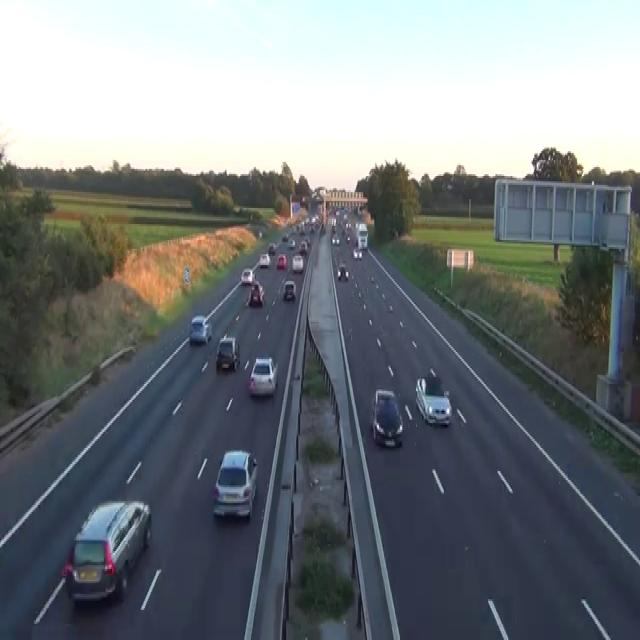Car: (61, 500, 151, 604), (212, 448, 258, 519), (415, 368, 452, 427), (370, 388, 403, 448), (248, 356, 278, 396), (215, 334, 240, 372), (189, 315, 212, 345), (247, 281, 265, 307), (283, 279, 296, 301), (240, 266, 255, 284), (337, 263, 348, 281), (292, 254, 303, 272), (276, 252, 286, 268), (259, 252, 270, 266), (353, 245, 362, 258), (267, 242, 275, 254), (299, 240, 307, 252), (331, 235, 339, 245), (343, 221, 351, 231), (287, 238, 295, 247), (300, 196, 307, 206), (330, 217, 336, 227), (282, 233, 288, 242), (399, 318, 405, 327), (305, 237, 311, 246), (299, 226, 305, 234), (387, 304, 393, 311), (309, 226, 315, 233), (258, 230, 262, 238), (346, 234, 350, 242)
Truck: (355, 222, 368, 249)
